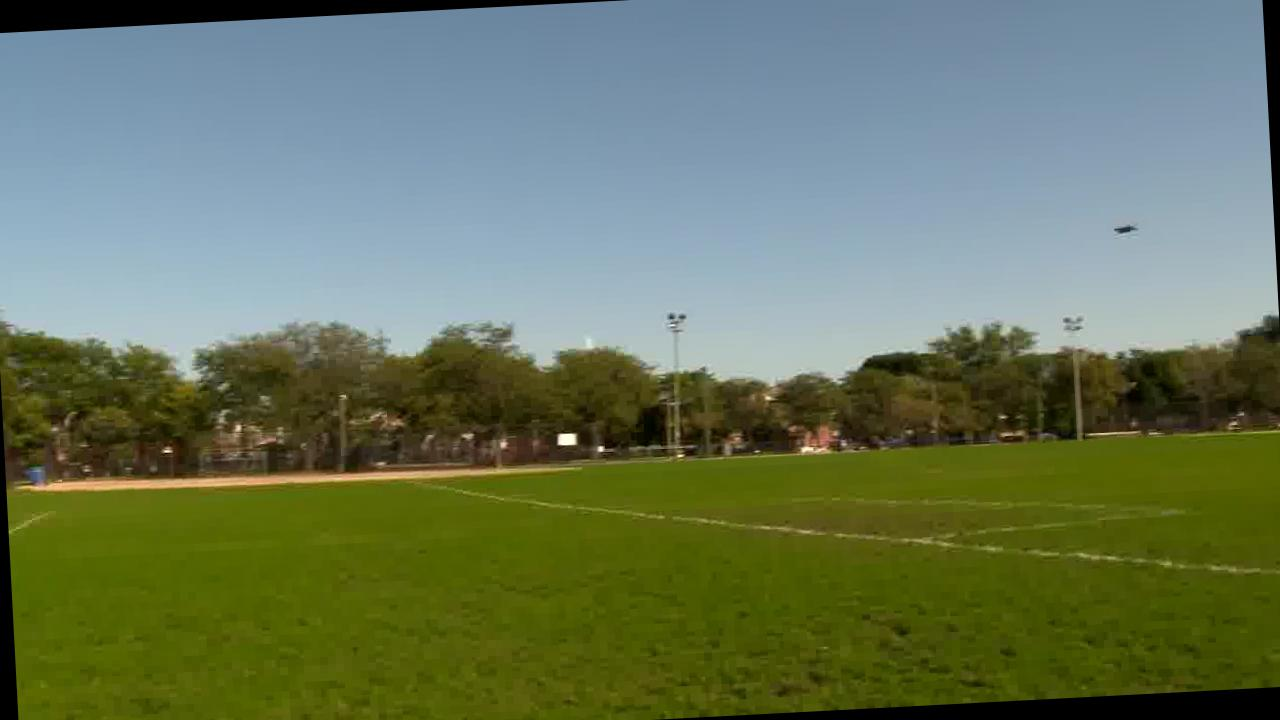drone: (1098, 218, 1144, 243)
